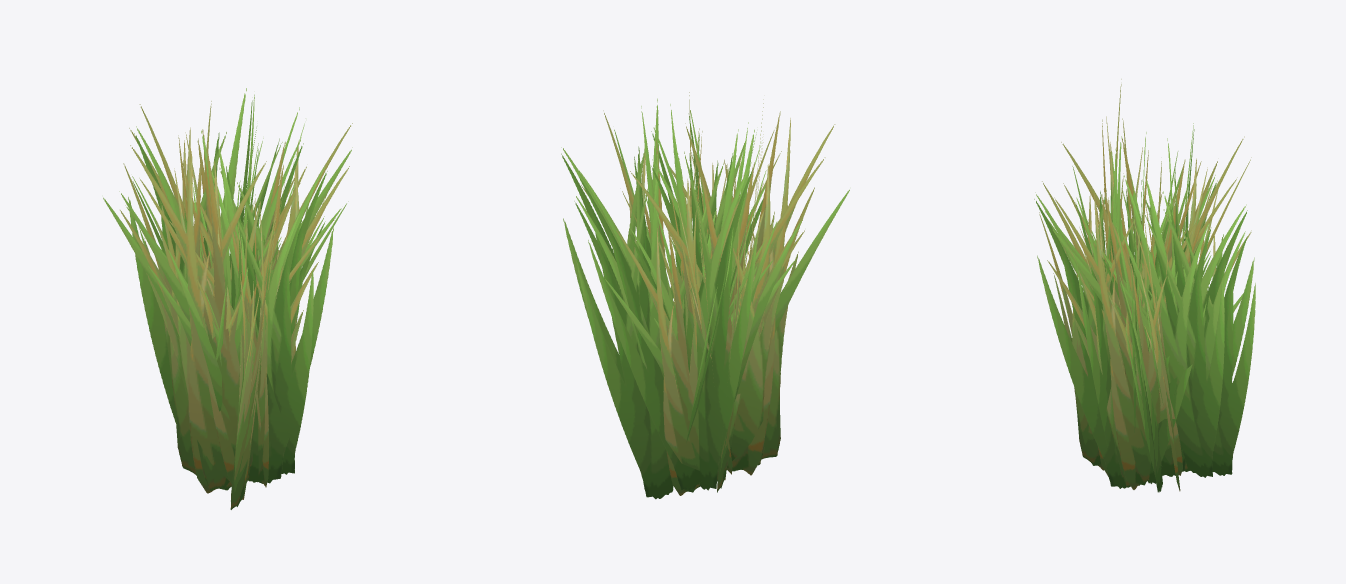
The model's file is grass_c.glb.
The picture shows the model from 3 angles, left to right: view 1: azimuth 30°, elevation 25°; view 2: azimuth 150°, elevation 25°; view 3: azimuth 270°, elevation 25°; orthographic projection. The views are drawn at different scales.
Visible parts, largest first — view 1: leaves; view 2: leaves; view 3: leaves.
Part boxes in pixels (x1=…): leaves: x1=103, y1=88, x2=352, y2=509; leaves: x1=561, y1=92, x2=849, y2=499; leaves: x1=1034, y1=79, x2=1255, y2=492.
Bounding box in the file's own units: 0.9717 × 0.9462 × 0.8435.
1 material, 1 textured.
